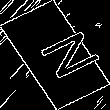N_SW: (18, 25, 92, 85)
